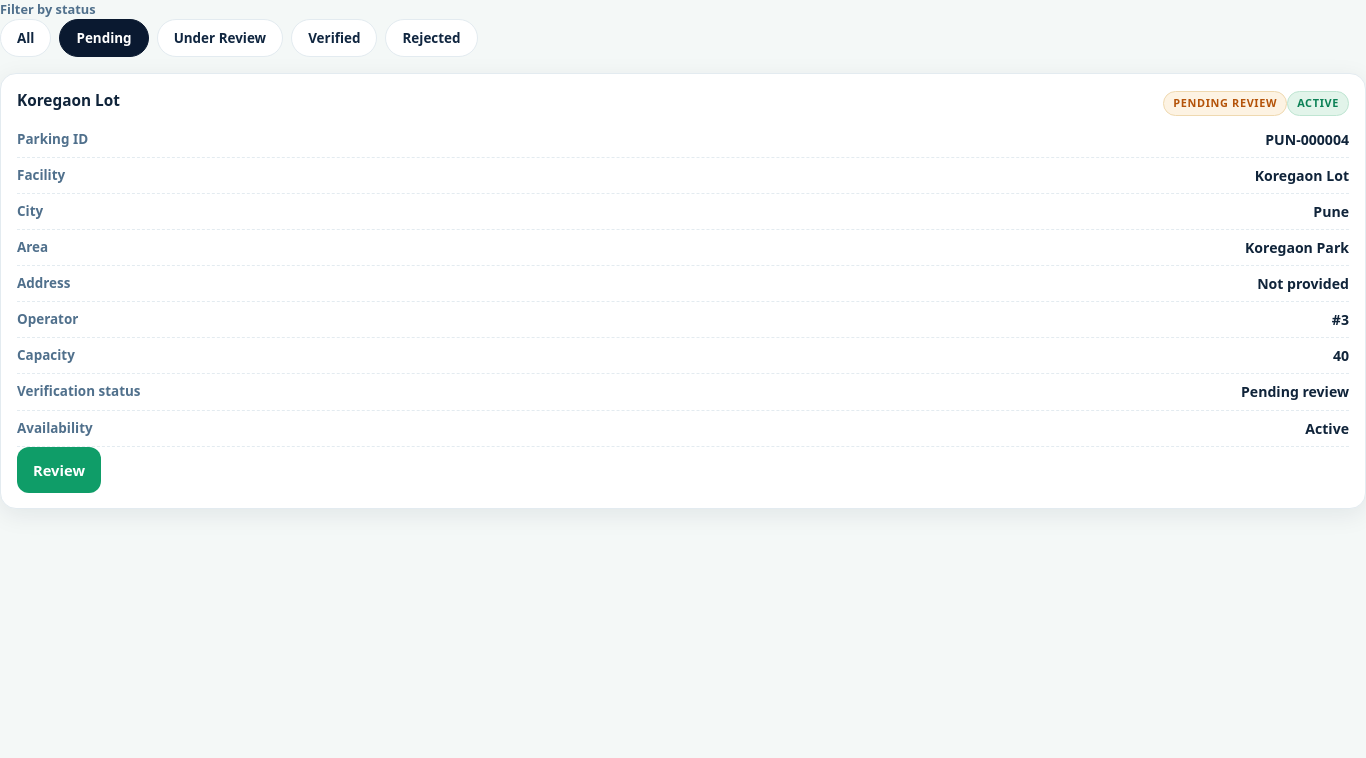
it: AdminFacilities › fetches all statuses when the All filter is selected and dedupes by id
This screenshot has width=1366, height=758.
Click the button "All" at (26, 38), box [0,19,52,57]
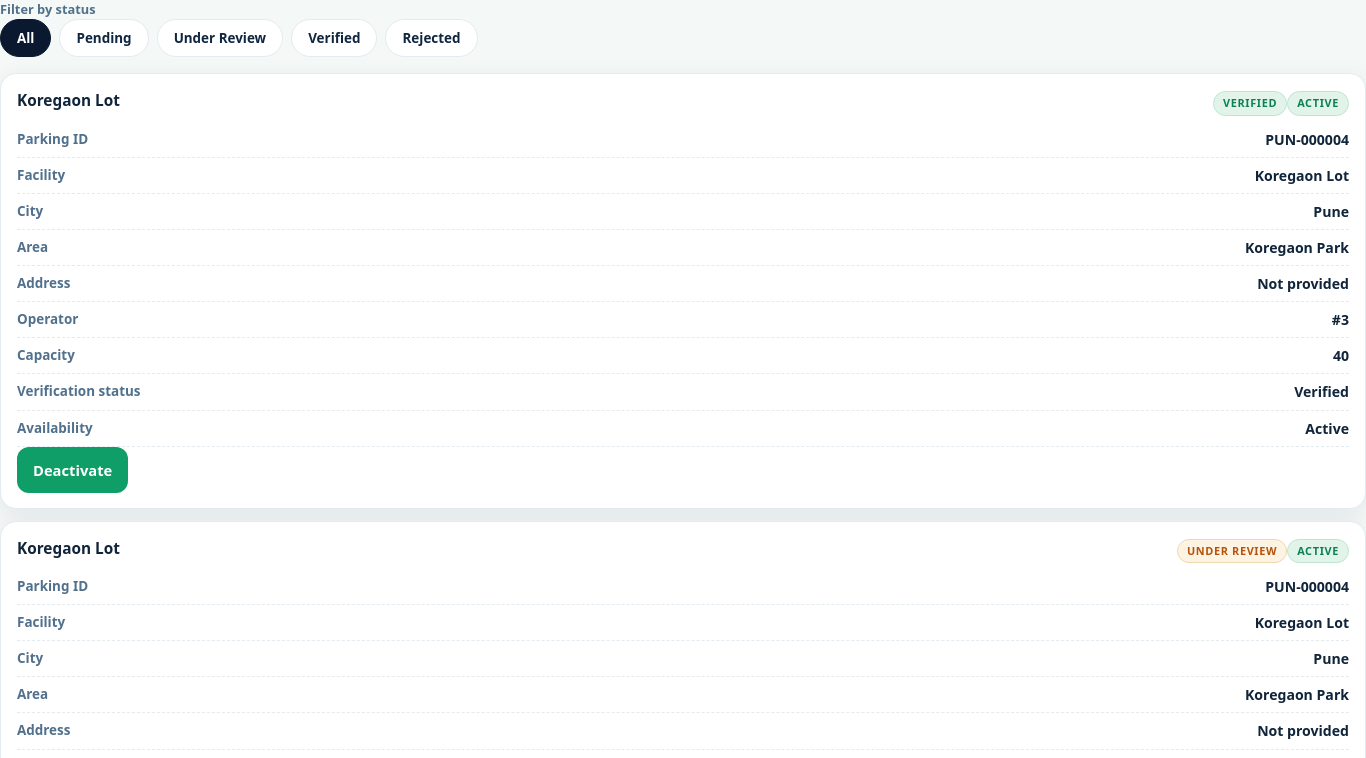
Expected: the number of list items with class "admin-facility-card" is 4
